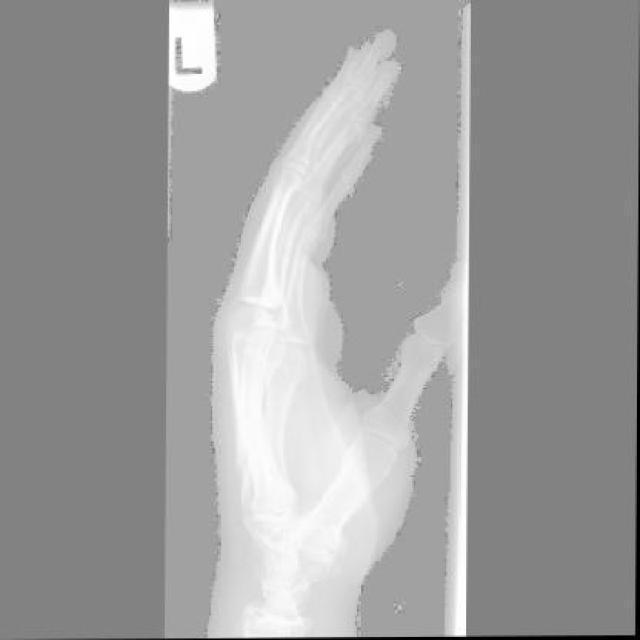Fracture: (231, 432, 269, 491)
